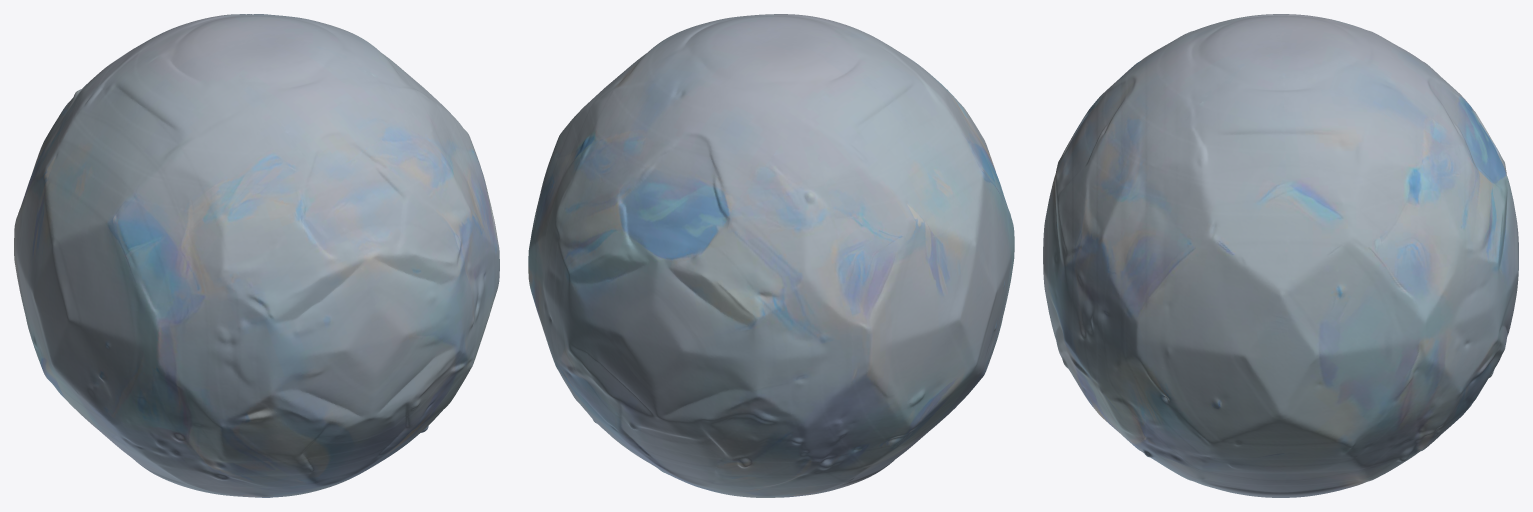
Rendered from detailed_realistic_model_crystalball_08.glb.
3 views of the same model, side by side, from view 1: azimuth 30°, elevation 25°; view 2: azimuth 150°, elevation 25°; view 3: azimuth 270°, elevation 25° (orthographic).
Parts seen in each view (by area): view 1: tripo_node_78440932-b15c-4c26-8c00-320d1f12860c; view 2: tripo_node_78440932-b15c-4c26-8c00-320d1f12860c; view 3: tripo_node_78440932-b15c-4c26-8c00-320d1f12860c.
Boxes of the visible parts, x1,y1,x2,y2 form: tripo_node_78440932-b15c-4c26-8c00-320d1f12860c: [14, 14, 499, 497]; tripo_node_78440932-b15c-4c26-8c00-320d1f12860c: [528, 14, 1014, 497]; tripo_node_78440932-b15c-4c26-8c00-320d1f12860c: [1043, 14, 1518, 497].
Bounding box in the file's own units: 1 × 0.9952 × 0.9988.
Materials: 1 (1 with a texture image).
